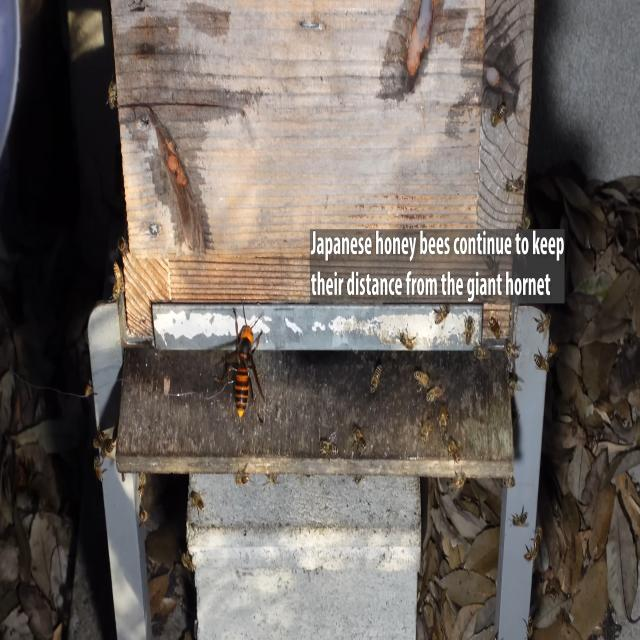Bees: (108, 262, 124, 302), (318, 430, 338, 461), (504, 172, 524, 198), (106, 75, 120, 112), (189, 487, 205, 519), (397, 327, 416, 353), (532, 312, 550, 339), (510, 503, 528, 529), (444, 438, 462, 464), (489, 101, 506, 127), (447, 470, 467, 492), (432, 304, 451, 327), (462, 312, 475, 345), (533, 348, 549, 374), (179, 548, 196, 572), (93, 454, 107, 483), (487, 314, 502, 341), (503, 339, 521, 361), (234, 462, 250, 486), (414, 369, 430, 392), (352, 426, 366, 452), (474, 341, 492, 361), (426, 386, 444, 406), (419, 418, 434, 441), (115, 234, 129, 258), (370, 365, 382, 393), (438, 407, 450, 435), (100, 437, 114, 460), (521, 614, 533, 640), (263, 470, 280, 487), (92, 426, 104, 450), (137, 502, 148, 528), (523, 543, 537, 562), (530, 526, 541, 548), (508, 380, 522, 396), (500, 476, 516, 489), (138, 473, 146, 497), (84, 379, 95, 396), (547, 342, 557, 358)
Hornets: (213, 302, 265, 425)
